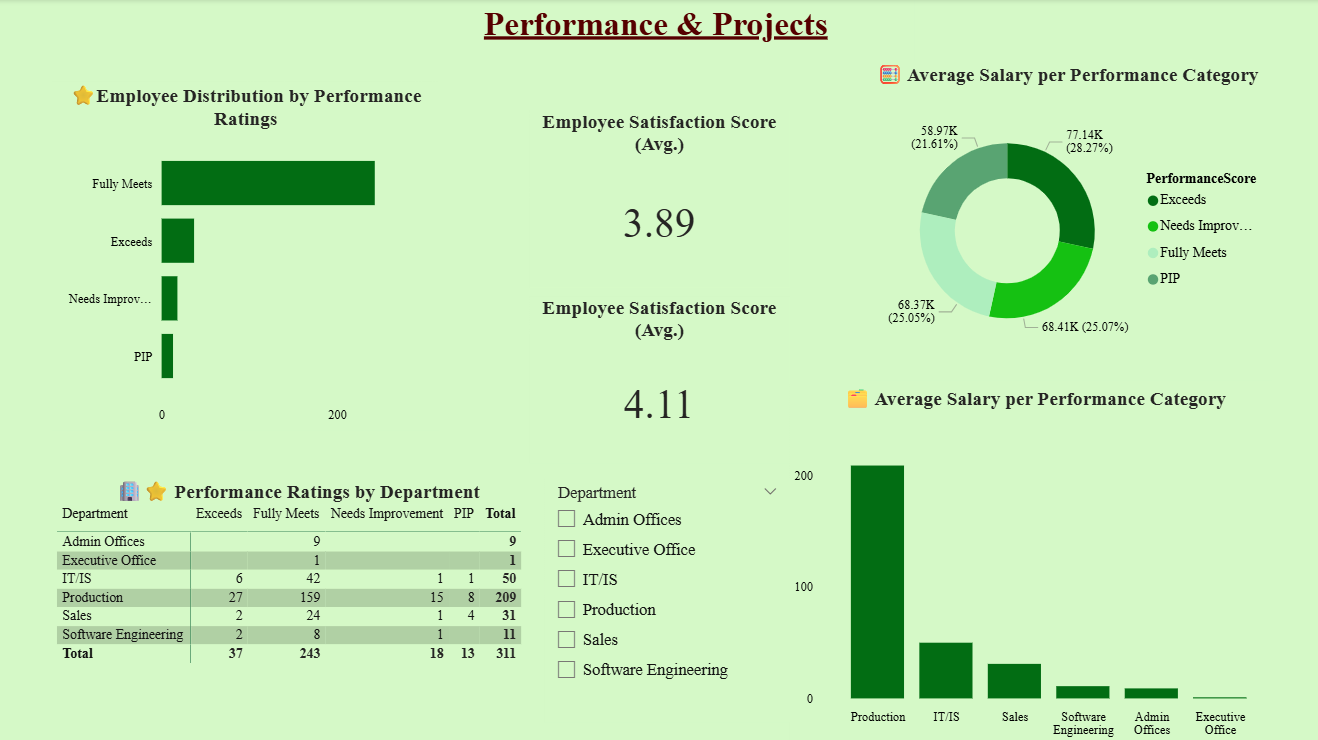

What the dashboard file says about the page in this screenshot:
{"tool":"powerbi","page":{"name":"Page 2","canvas":[1280,720],"ordinal":1},"visuals":[{"type":"clusteredBarChart","title":"⭐Employee Distribution by Performance Ratings","fields":{"Y":["HRDataset.Total Employees"],"Category":["HRDataset.PerformanceScore"]},"box":[53.1,79.6,374,336.6],"z":0},{"type":"pivotTable","title":"\t🏢⭐ Performance Ratings by Department","fields":{"Rows":["HRDataset.Department"],"Columns":["HRDataset.PerformanceScore"],"Values":["HRDataset.Total Employees"]},"box":[53.1,462.1,475.3,236.5],"z":1000},{"type":"card","title":"Employee Satisfaction Score (Avg.)","fields":{"Values":["Avg(HRDataset.EngagementSurvey)"]},"box":[513.9,287.1,250.9,160.5],"z":2000},{"type":"card","title":"Employee Satisfaction Score (Avg.)","fields":{"Values":["Avg(HRDataset.EmpSatisfaction)"]},"box":[513.9,107.4,250.9,171.3],"z":3000},{"type":"clusteredColumnChart","title":" 🗂️ Average Salary per Performance Category","fields":{"Category":["HRDataset.Department"],"Y":["CountNonNull(HRDataset.SpecialProjectsCount)"]},"box":[764.9,371.6,474.1,348.7],"z":4000},{"type":"donutChart","title":"🧮 Average Salary per Performance Category","fields":{"Category":["HRDataset.PerformanceScore"],"Y":["Avg(HRDataset.Salary)"]},"box":[836.1,59.1,394.5,308.8],"z":5000},{"type":"textbox","box":[386.1,0,499.5,59.1],"z":6000},{"type":"slicer","fields":{"Values":["HRDataset.Department"]},"box":[528,462,237,236],"z":7000}]}

Visuals, with their boxes in screenshot pixels (x1, y1, x2, y2), scaled from the page's 1280x720 canvas onto the 1318x740 screenshot:
"⭐Employee Distribution by Performance Ratings" clusteredBarChart: select_region(55, 82, 440, 428)
"	🏢⭐ Performance Ratings by Department" pivotTable: select_region(55, 475, 544, 718)
"Employee Satisfaction Score (Avg.)" card: select_region(529, 295, 788, 460)
"Employee Satisfaction Score (Avg.)" card: select_region(529, 110, 788, 286)
" 🗂️ Average Salary per Performance Category" clusteredColumnChart: select_region(788, 382, 1276, 739)
"🧮 Average Salary per Performance Category" donutChart: select_region(861, 61, 1267, 378)
textbox: select_region(398, 0, 912, 61)
slicer - HRDataset.Department: select_region(544, 475, 788, 717)
